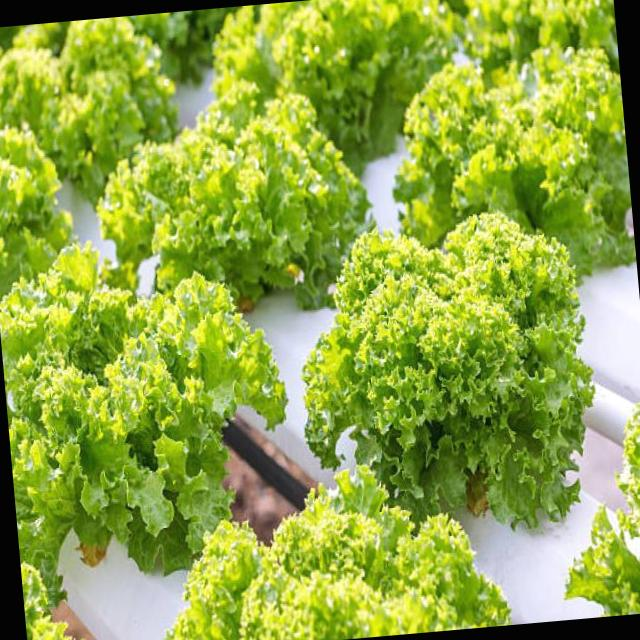Lettuce-Ready-to-Harvest: (0, 245, 285, 595), (304, 213, 593, 525), (164, 466, 510, 640), (97, 95, 369, 309), (394, 48, 636, 273), (213, 0, 457, 173), (0, 16, 174, 201), (566, 404, 640, 616), (0, 128, 71, 299), (465, 0, 619, 71)
